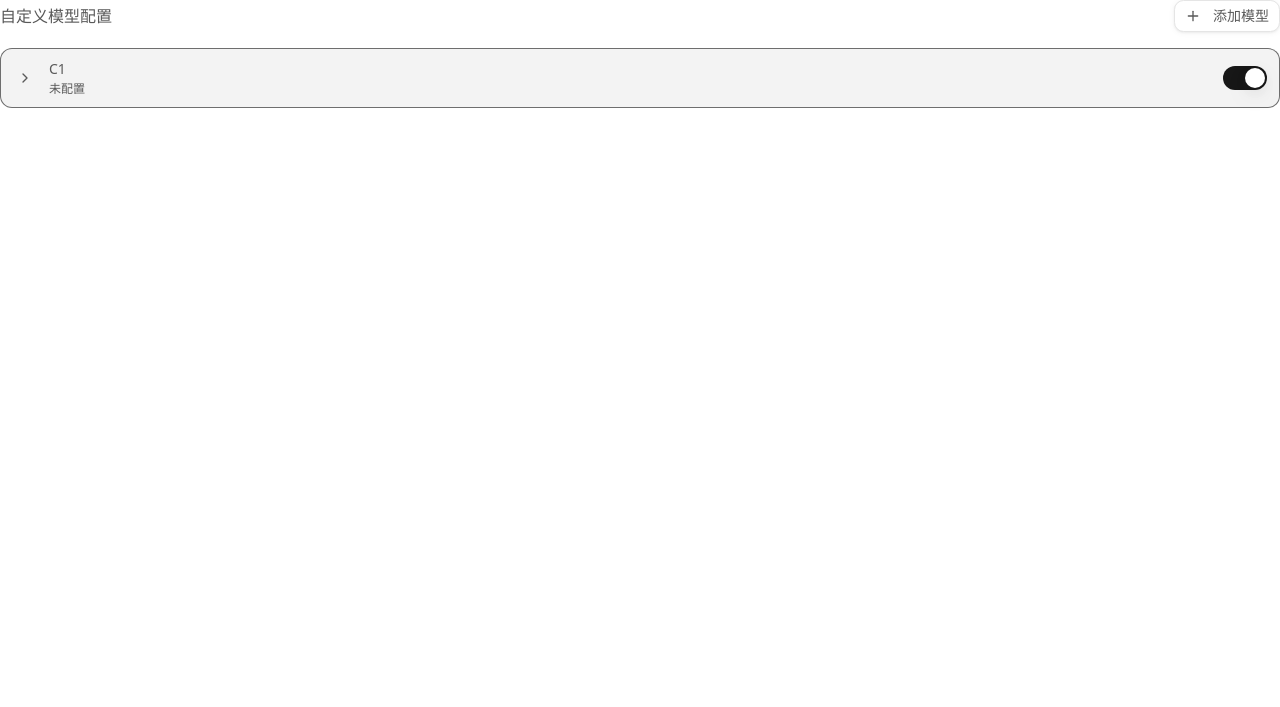
Test: CustomProviderCards › shows failed fetch message on model list error
Click the button titled "展开配置": (25, 78) [13, 66, 37, 90]
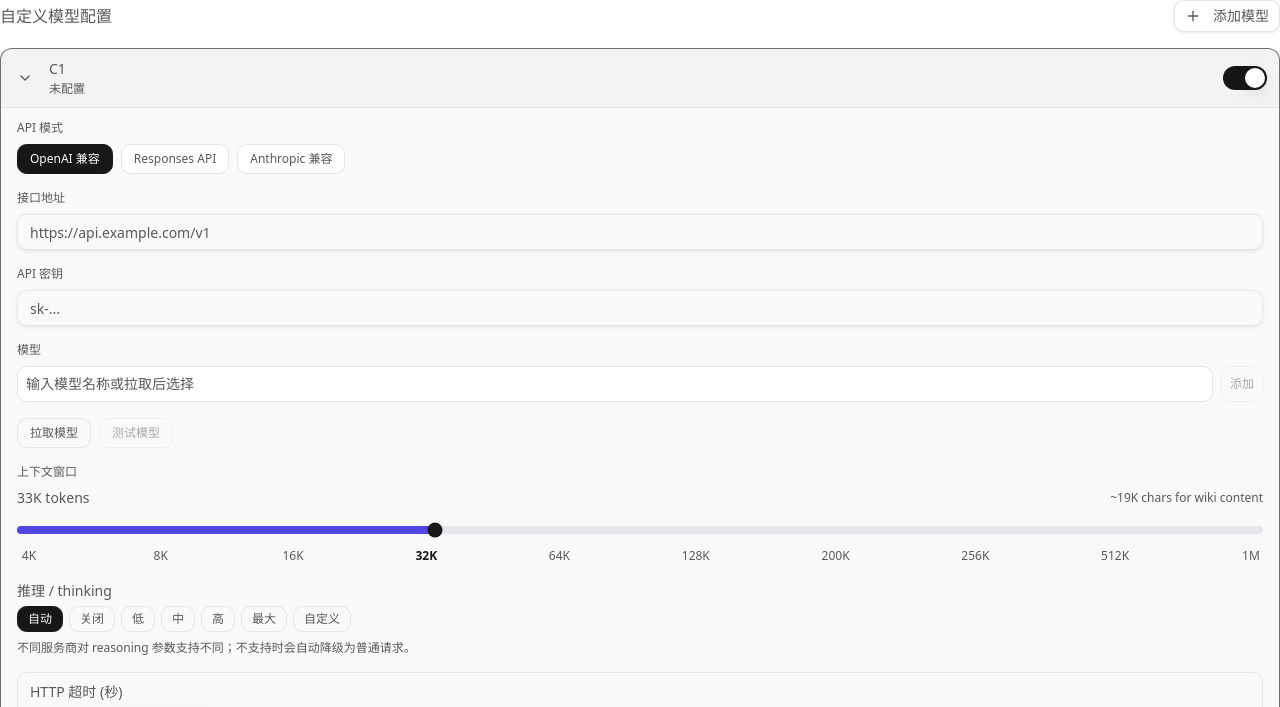
Click the button "拉取模型": (54, 433) [17, 418, 91, 448]
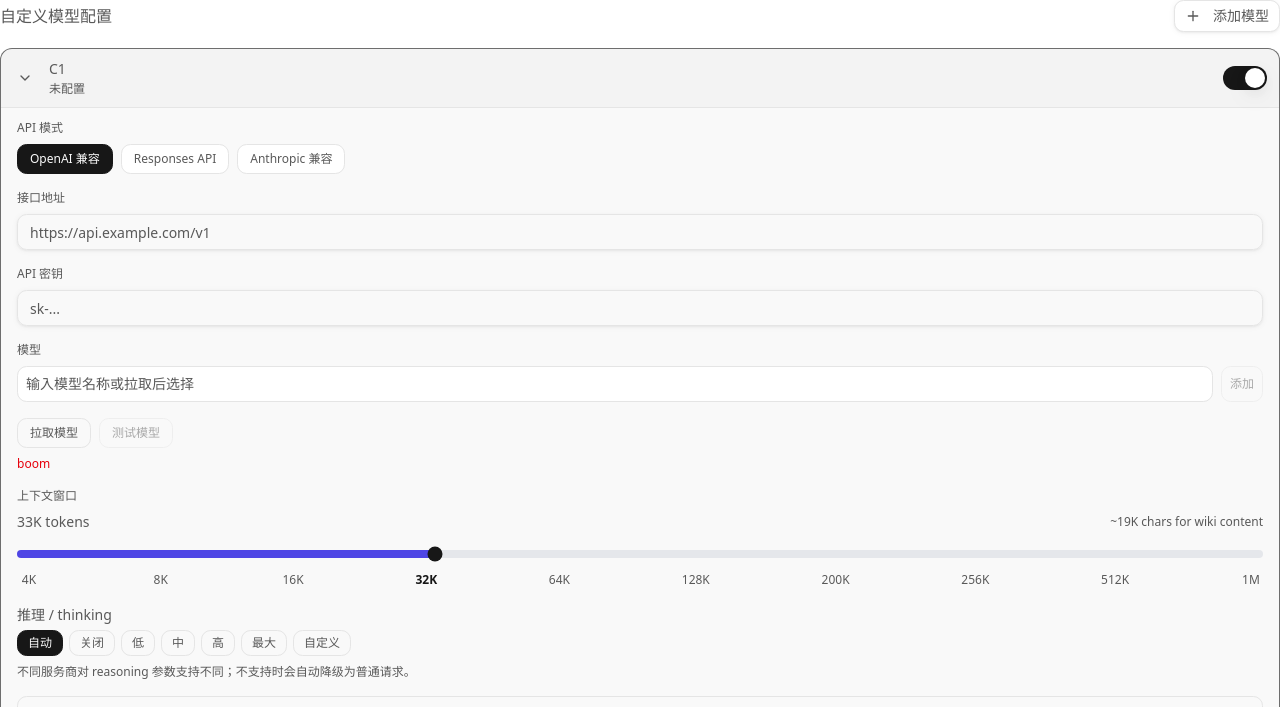
Check: the text "boom" is shown, box [17, 455, 50, 472]
